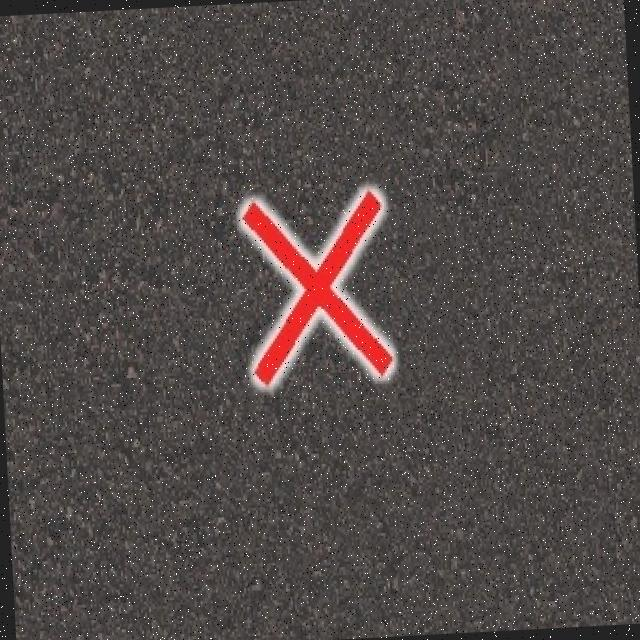x_marker: (240, 190, 392, 383)
